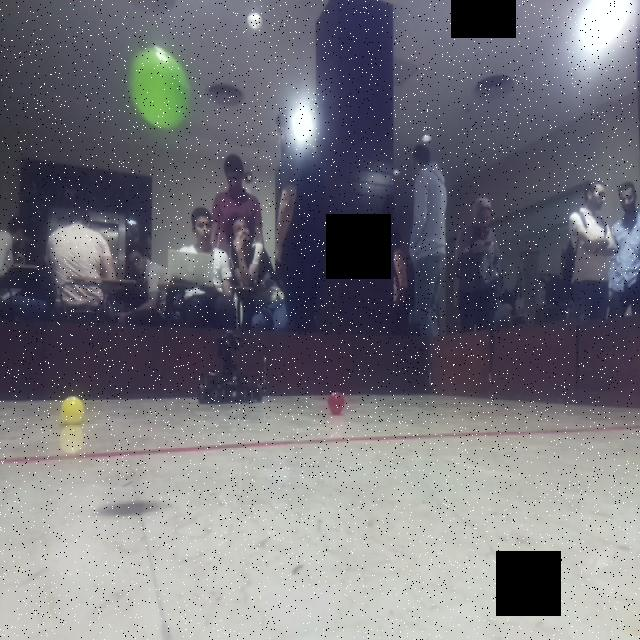ball: (58, 395, 87, 428), (325, 388, 348, 418)
